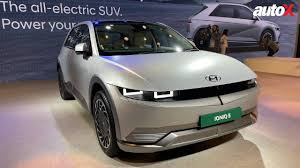Honda Ioniq: (49, 14, 265, 159)
